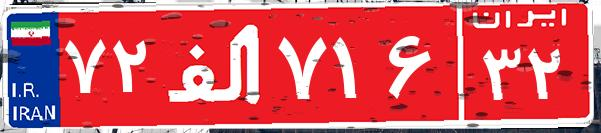1: (330, 28, 385, 110)
2: (110, 28, 158, 105), (525, 38, 570, 115)
3: (475, 38, 525, 113)
6: (385, 28, 445, 110)
7: (273, 28, 330, 110), (57, 26, 110, 107)
الف: (158, 15, 273, 115)
